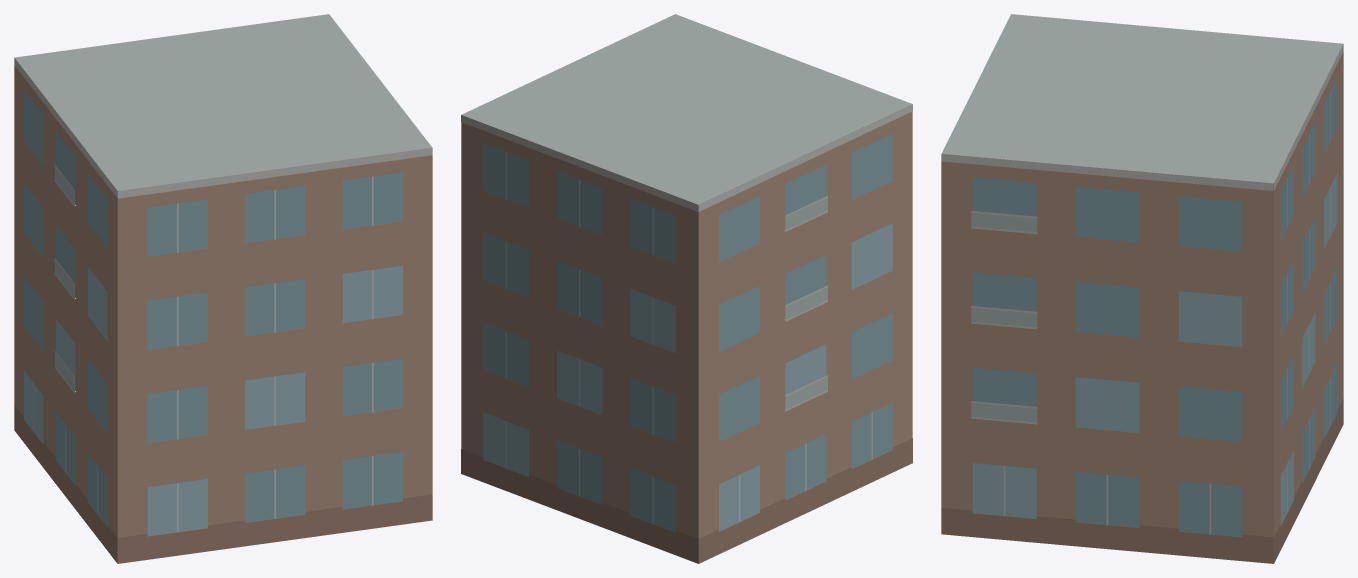
File: residential-778d6cdb-6d95-43fd-a68d-62036acb6af5.glb
The picture shows the model from 3 angles, left to right: view 1: azimuth 30°, elevation 25°; view 2: azimuth 150°, elevation 25°; view 3: azimuth 270°, elevation 25°; orthographic projection. The views are drawn at different scales.
Visible parts, largest first — view 1: residential-778d6cdb-6d95-43fd-a68d-62036acb6af5.tmp; view 2: residential-778d6cdb-6d95-43fd-a68d-62036acb6af5.tmp; view 3: residential-778d6cdb-6d95-43fd-a68d-62036acb6af5.tmp.
Boxes of the visible parts, left/top/right/bottom form: residential-778d6cdb-6d95-43fd-a68d-62036acb6af5.tmp: left=14, top=14, right=432, bottom=563; residential-778d6cdb-6d95-43fd-a68d-62036acb6af5.tmp: left=461, top=14, right=912, bottom=563; residential-778d6cdb-6d95-43fd-a68d-62036acb6af5.tmp: left=941, top=14, right=1343, bottom=563.
Bounding box in the file's own units: 11.66 × 12.2 × 11.7.
